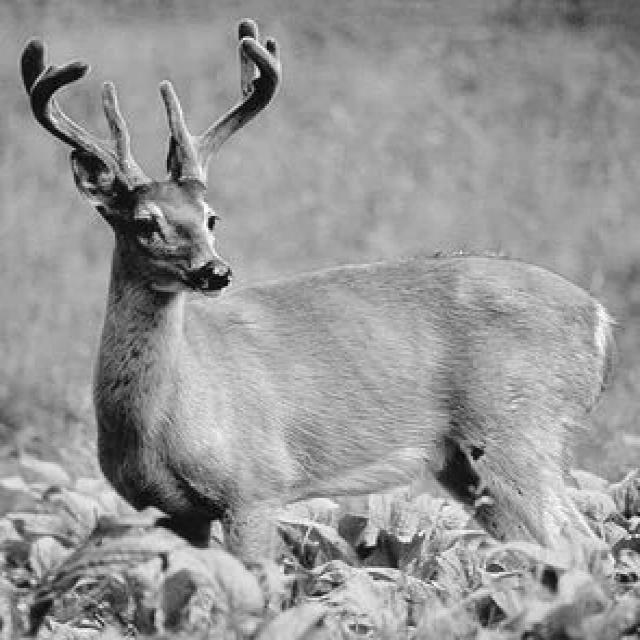Deer: (13, 95, 639, 639)
